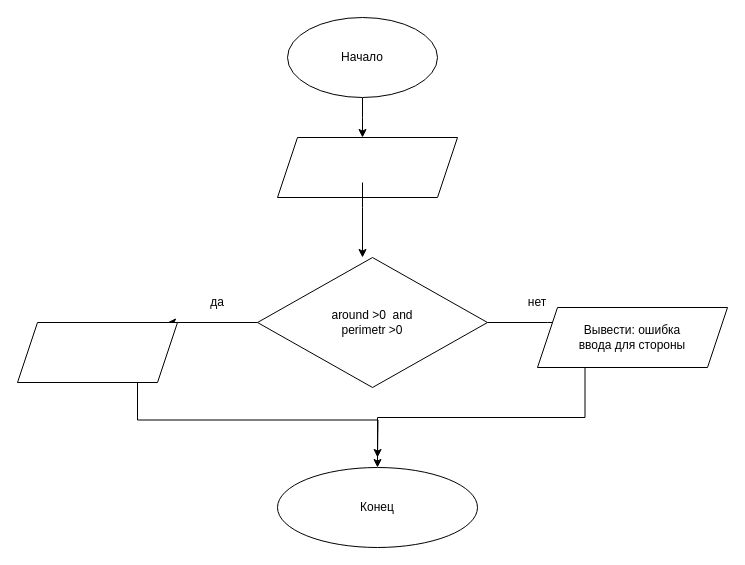
This 745x565 diagram has some shape labels left out. The shapes that lost their labels are listed below. From the top down, each one's centre as x and y in pixels, then its label:
At (x=367, y=167): "Вести around perimetr".
At (x=97, y=352): "Вывести: around, perimetr".
